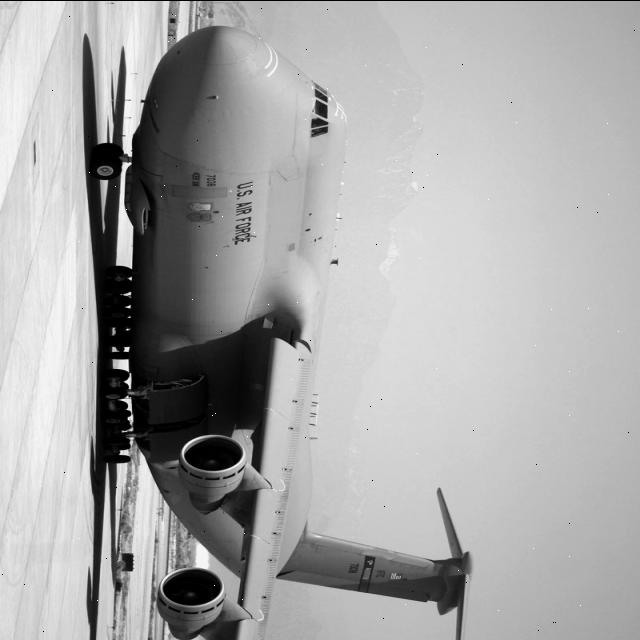C5: (40, 14, 492, 640)
